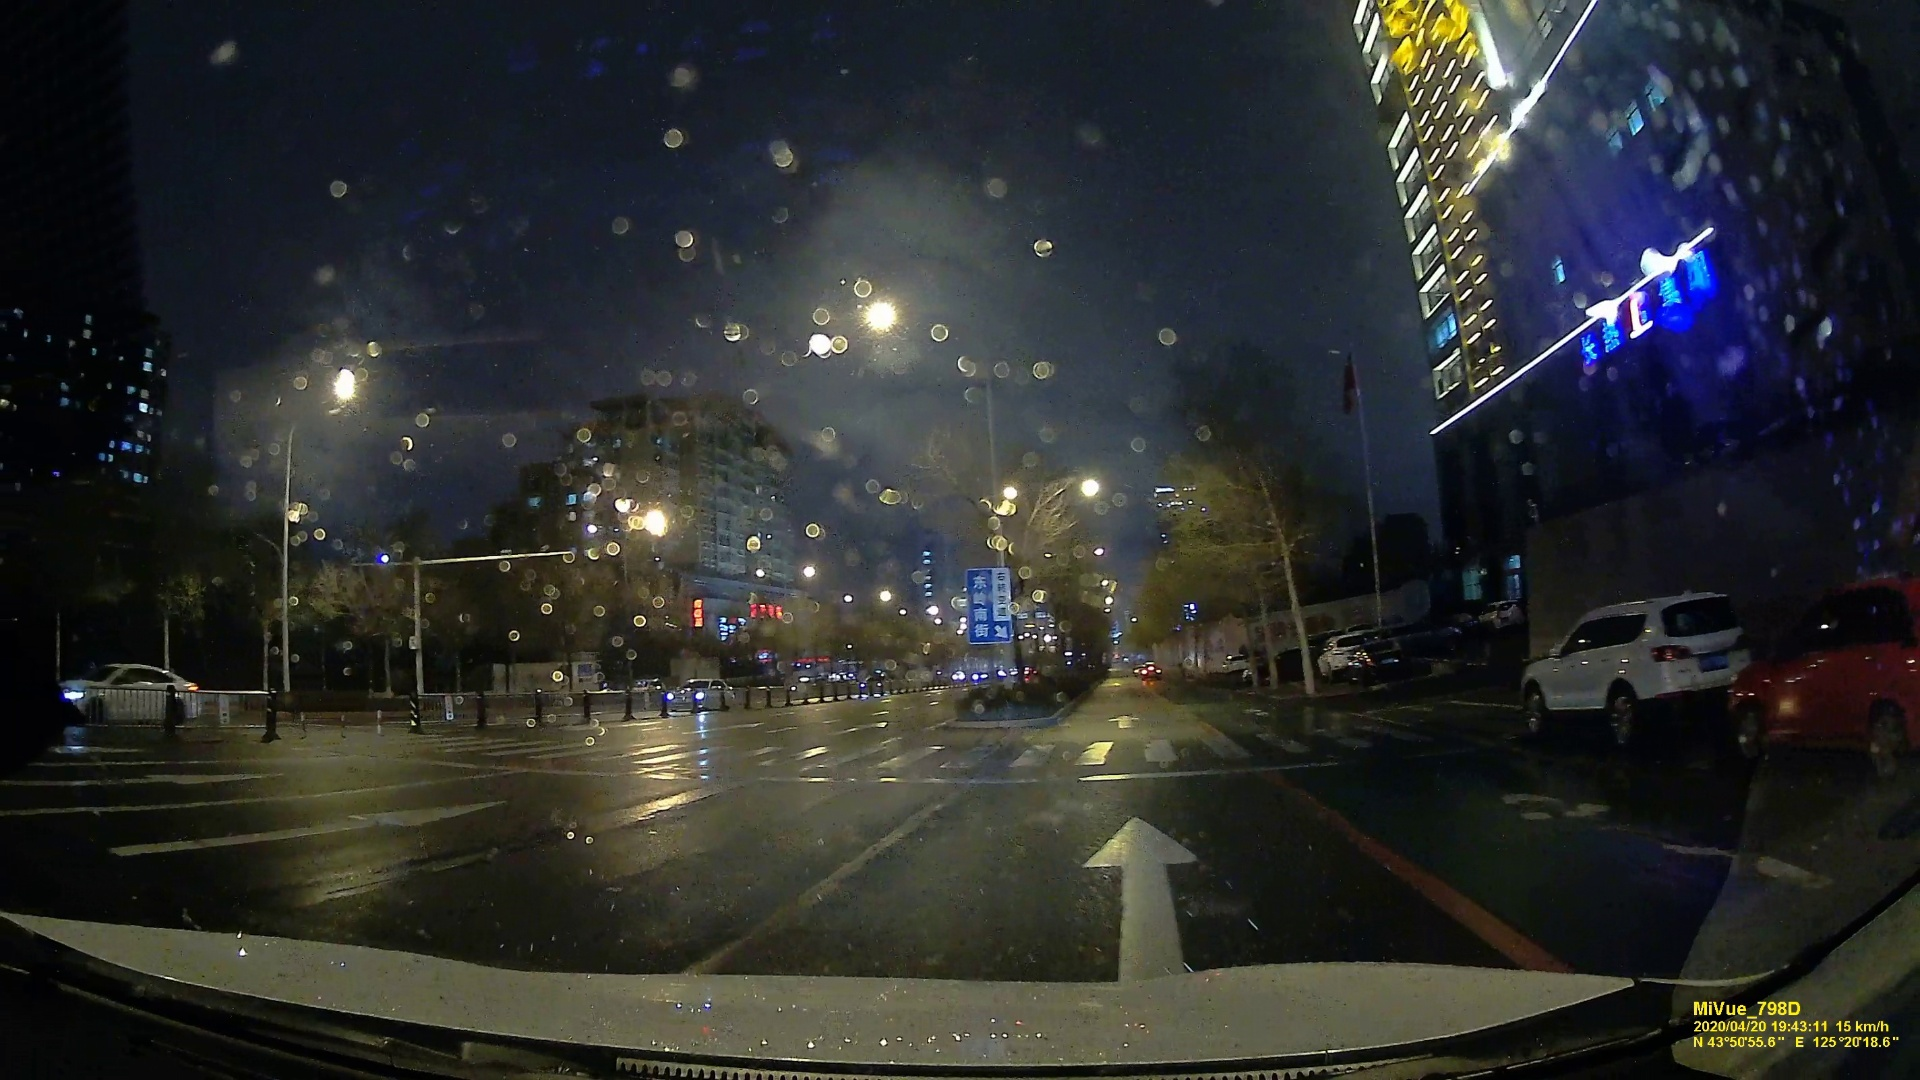traffic_sign: (963, 568, 1010, 644)
vehicle: (1516, 587, 1762, 731), (65, 659, 204, 731), (661, 676, 728, 709), (1139, 662, 1163, 680)
